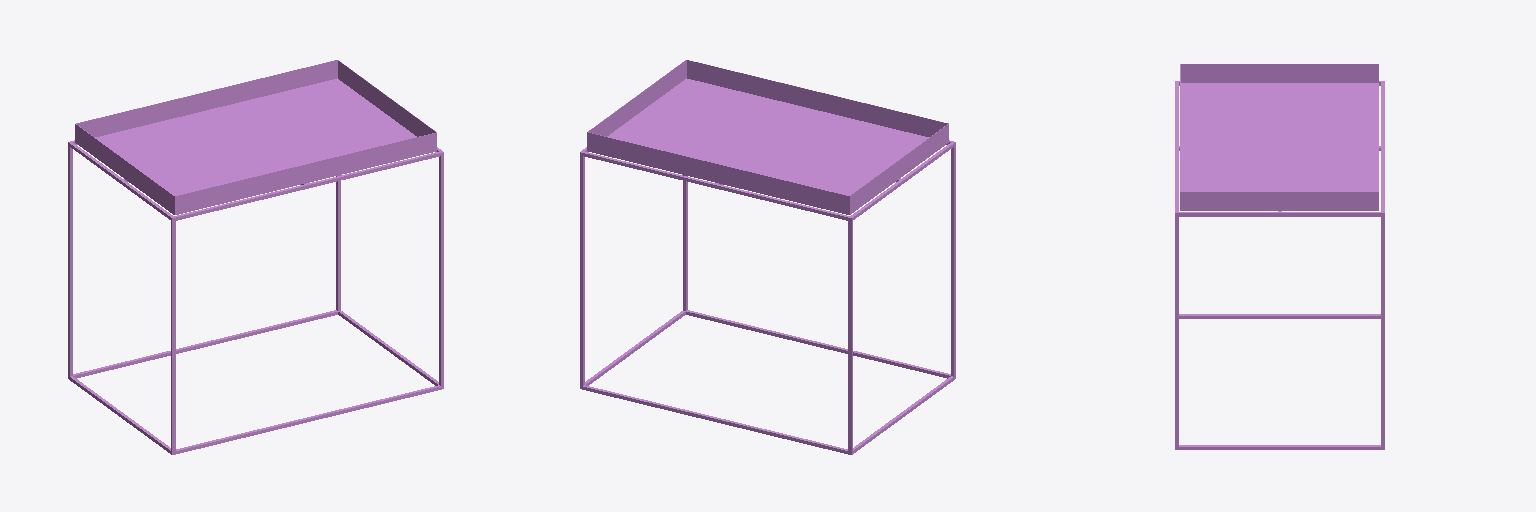
The model's file is Hay_Tray_Side_Table_Rect.obj.
3 renders of one model, left to right at view 1: azimuth 30°, elevation 25°; view 2: azimuth 150°, elevation 25°; view 3: azimuth 270°, elevation 25°, orthographic.
Parts seen in each view (by area): view 1: Hay_Tray_Side_Table_Rect; view 2: Hay_Tray_Side_Table_Rect; view 3: Hay_Tray_Side_Table_Rect.
Boxes of the visible parts, box(x1,y1,x2,y2) form: Hay_Tray_Side_Table_Rect: box(68, 60, 443, 454); Hay_Tray_Side_Table_Rect: box(580, 60, 955, 454); Hay_Tray_Side_Table_Rect: box(1175, 64, 1384, 449).
Bounding box in the file's own units: 59.98 × 53.98 × 39.96.